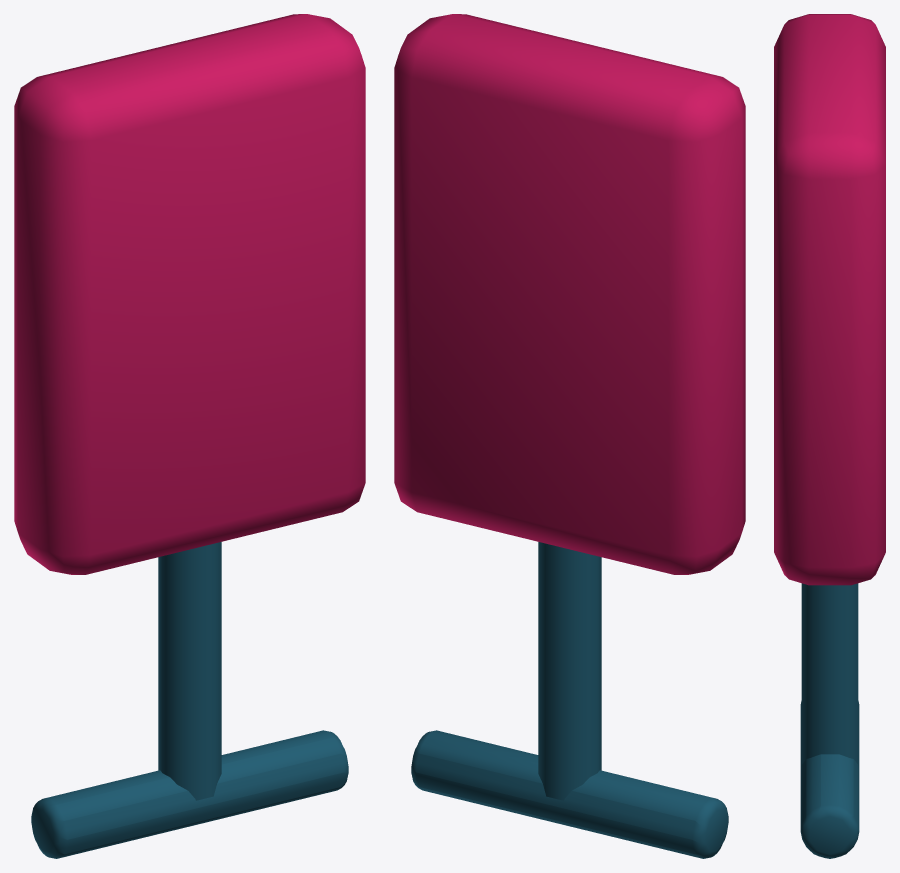
Rendered from stand barrier_pink.fbx.
3 renders of one model, left to right at view 1: azimuth 30°, elevation 25°; view 2: azimuth 150°, elevation 25°; view 3: azimuth 270°, elevation 25°, orthographic. The views are drawn at different scales.
Parts seen in each view (by area): view 1: stand barrier_pink; view 2: stand barrier_pink; view 3: stand barrier_pink.
Part boxes in pixels (left/top/right/bottom): stand barrier_pink: left=14, top=14, right=365, bottom=858; stand barrier_pink: left=394, top=14, right=745, bottom=858; stand barrier_pink: left=774, top=14, right=885, bottom=858.
Size of the model in its own units: 0.1456 by 0.3326 by 0.0468.
